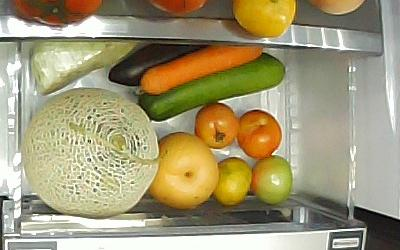cabbage: (29, 42, 135, 95)
carrot: (138, 46, 263, 94)
eggplant: (107, 44, 208, 86)
melon: (25, 88, 160, 219)
pear: (148, 132, 219, 210)
prune: (237, 109, 283, 160)
tangerine: (214, 157, 251, 205)
tomato: (193, 102, 239, 149), (251, 156, 294, 206)
zucchini: (138, 54, 286, 121)
